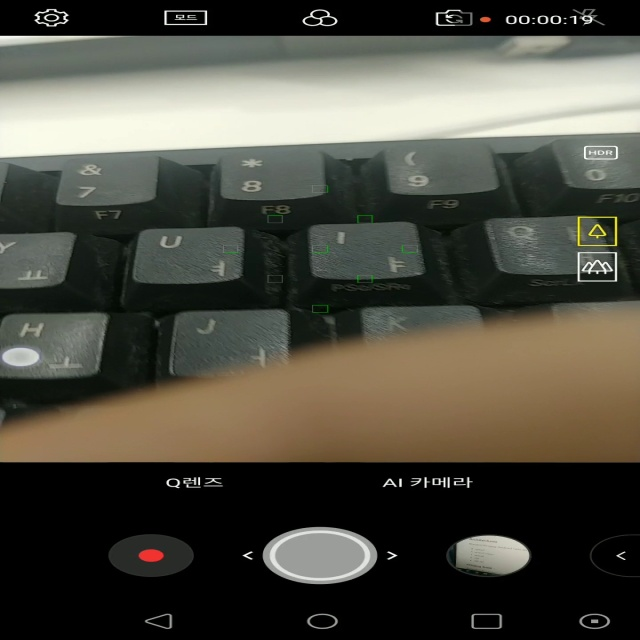Cursor: (1, 346, 45, 368)
